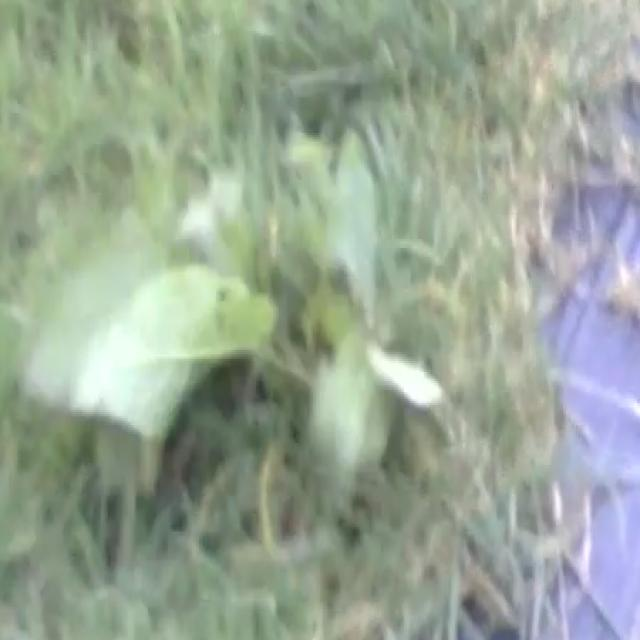organic waste: (19, 112, 468, 502)
